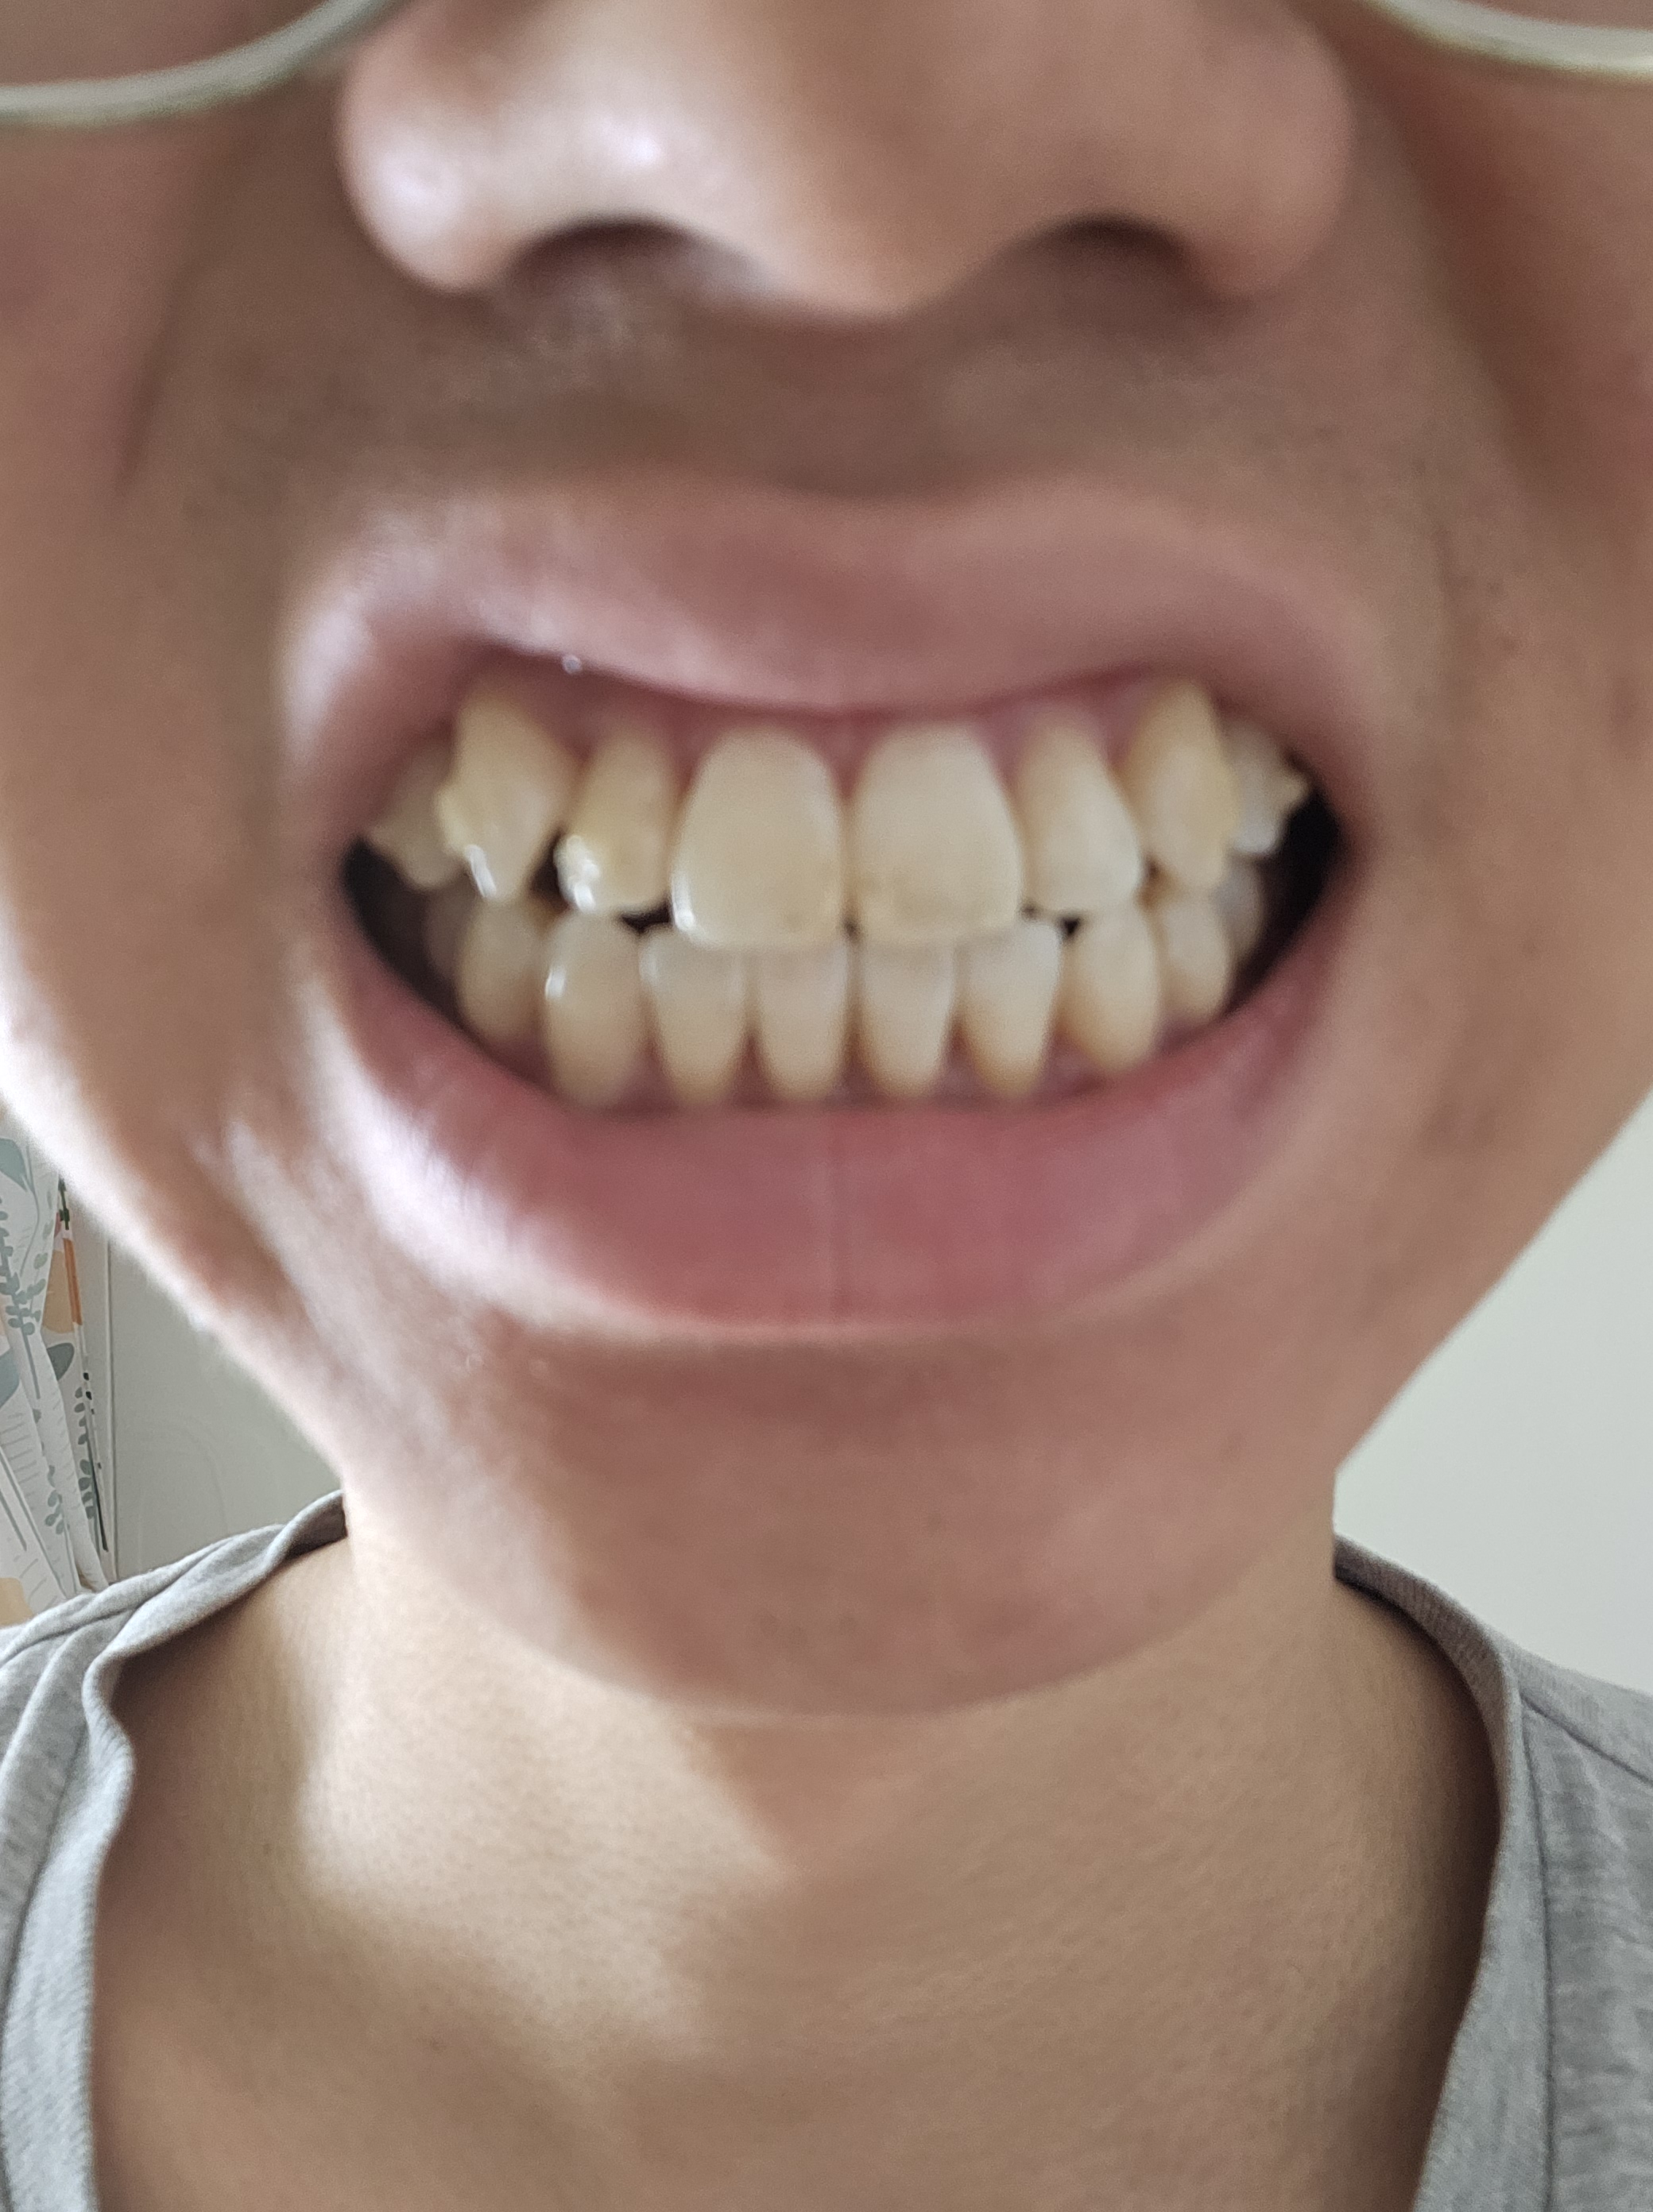teeth: (858, 745, 1011, 927), (689, 736, 821, 929), (455, 715, 578, 894), (1137, 675, 1231, 877), (1031, 748, 1146, 906), (559, 750, 675, 899), (964, 927, 1064, 1096), (540, 920, 632, 1103), (755, 953, 858, 1101), (858, 946, 950, 1097), (655, 945, 736, 1096), (1078, 910, 1148, 1066)
